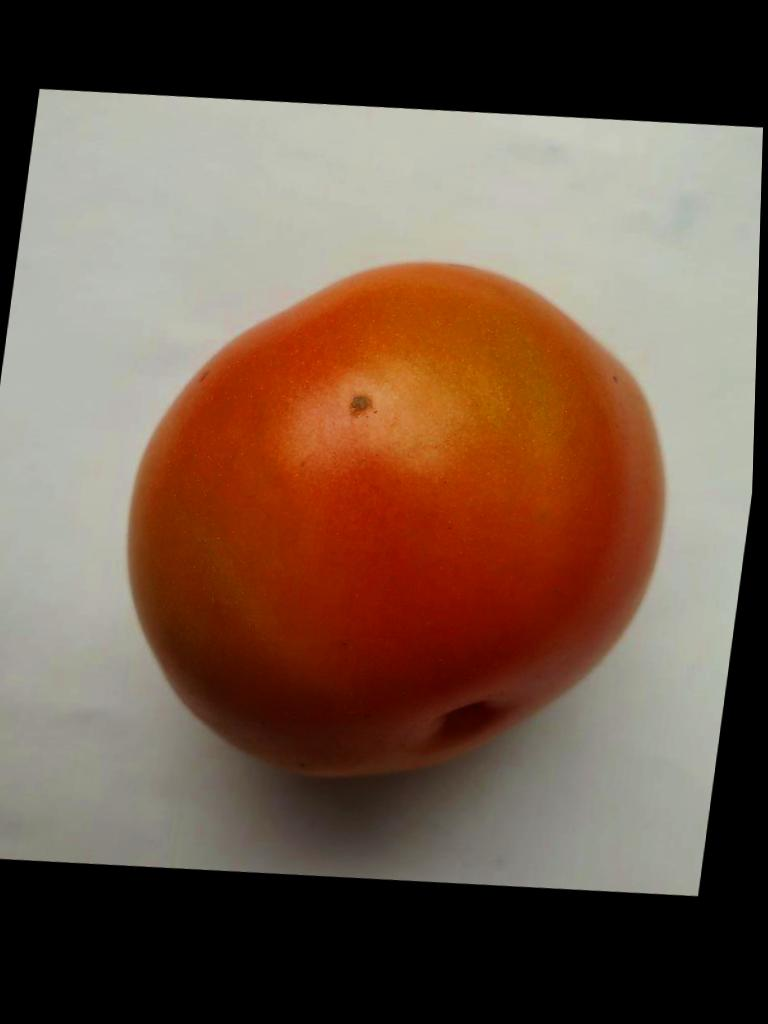tomato: (131, 265, 662, 775)
